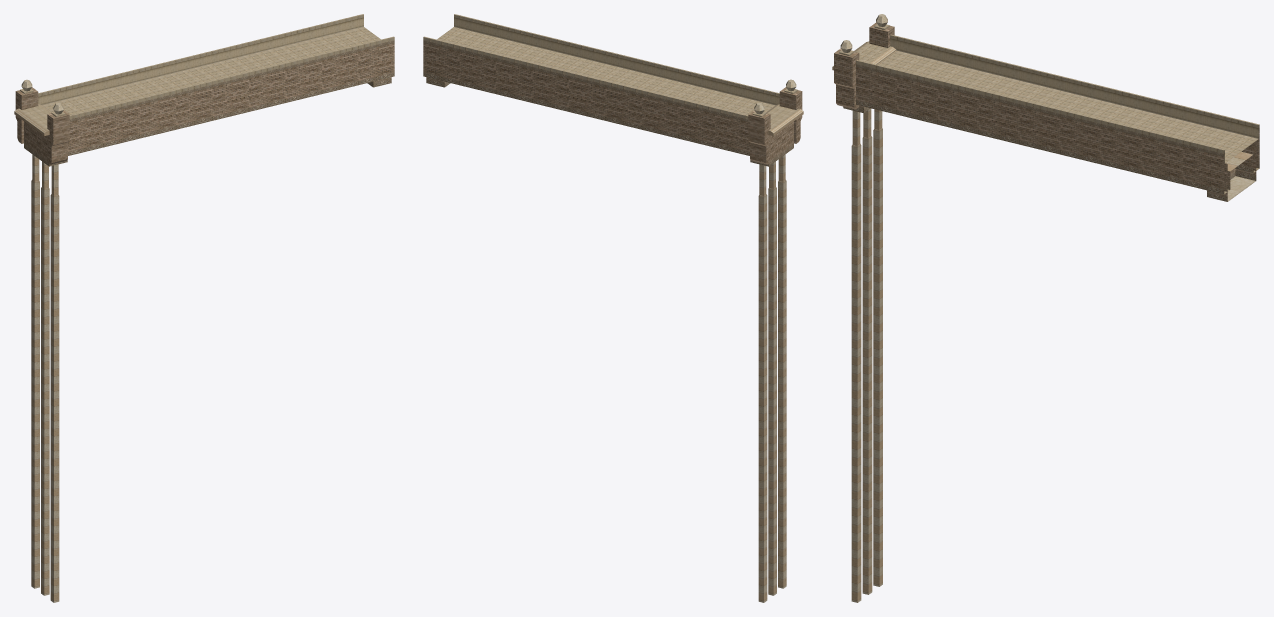
Rendered from thm_nboo_imprv_elevated_walkway_s03_l1.fbx.
The picture shows the model from 3 angles, left to right: view 1: azimuth 30°, elevation 25°; view 2: azimuth 150°, elevation 25°; view 3: azimuth 330°, elevation 25°; orthographic projection. The views are drawn at different scales.
Parts seen in each view (by area): view 1: mesh_node; view 2: mesh_node; view 3: mesh_node.
Part boxes in pixels (bbox=[...]): mesh_node: bbox=[14, 14, 394, 602]; mesh_node: bbox=[423, 14, 803, 602]; mesh_node: bbox=[832, 14, 1259, 602].
Size of the model in its own units: 33.28 by 45.67 by 6.2.
